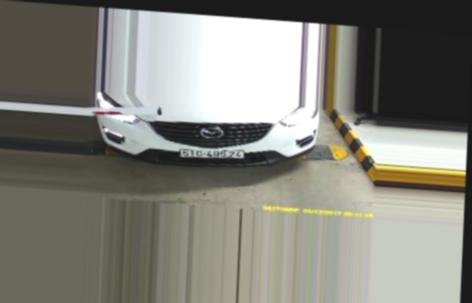License_Plate: (177, 145, 245, 164)
